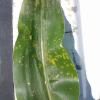Corn rust leaf: (13, 0, 80, 100)
